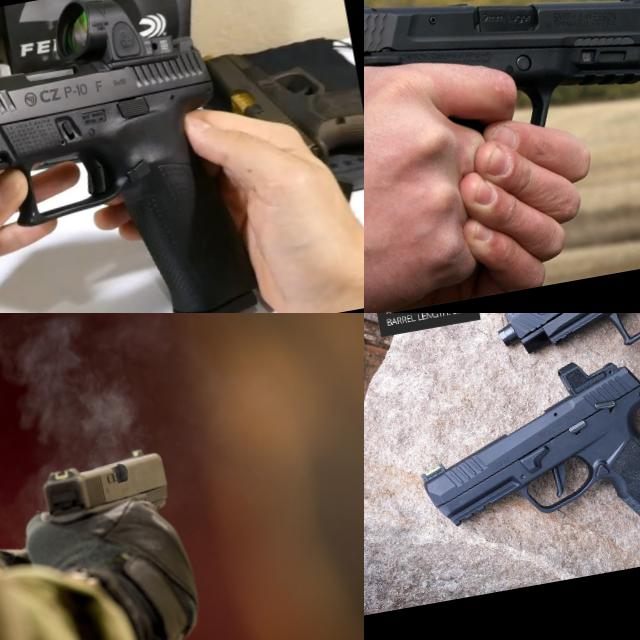handgun: (0, 0, 270, 313), (403, 337, 640, 584), (364, 0, 640, 169), (478, 313, 640, 429), (32, 439, 176, 534)
